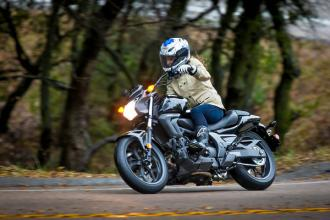motor: (115, 76, 279, 195)
